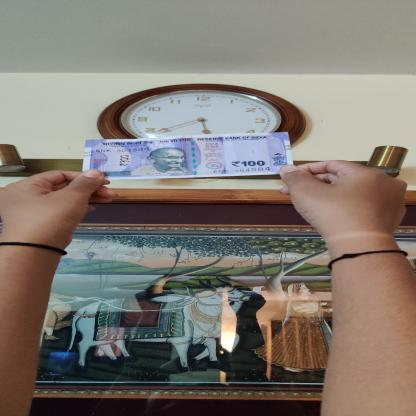New100Front: (80, 130, 296, 182)
